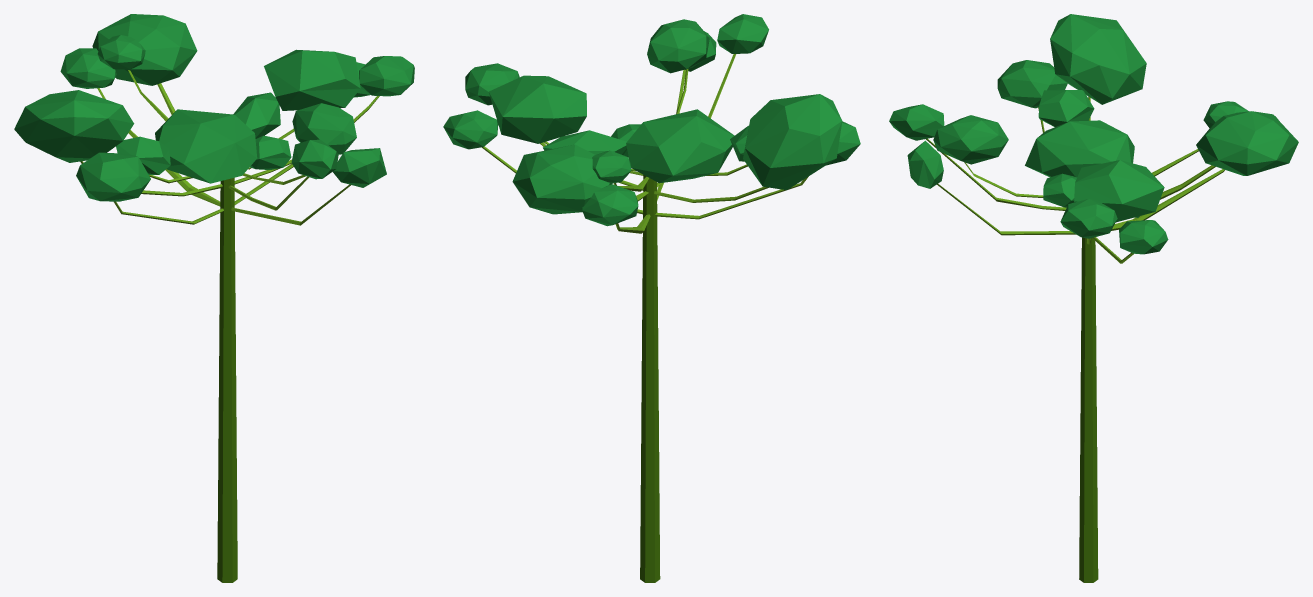
Rendered from Exotic_Tree_B.fbx.
The picture shows the model from 3 angles, left to right: view 1: azimuth 30°, elevation 25°; view 2: azimuth 150°, elevation 25°; view 3: azimuth 270°, elevation 25°; orthographic projection. The views are drawn at different scales.
Visible parts, largest first — view 1: Exotic_Tree_B; view 2: Exotic_Tree_B; view 3: Exotic_Tree_B.
Boxes of the visible parts, x1,y1,x2,y2 form: Exotic_Tree_B: (14, 14, 414, 582); Exotic_Tree_B: (443, 14, 860, 582); Exotic_Tree_B: (889, 14, 1298, 582).
Bounding box in the file's own units: 605 × 793 × 600.
